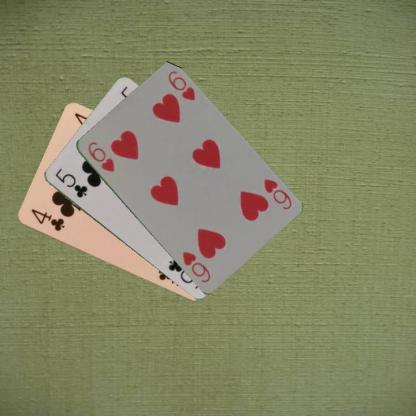4c: (28, 206, 66, 233)
5c: (52, 166, 89, 199)
6h: (261, 176, 293, 211), (84, 140, 116, 174)
